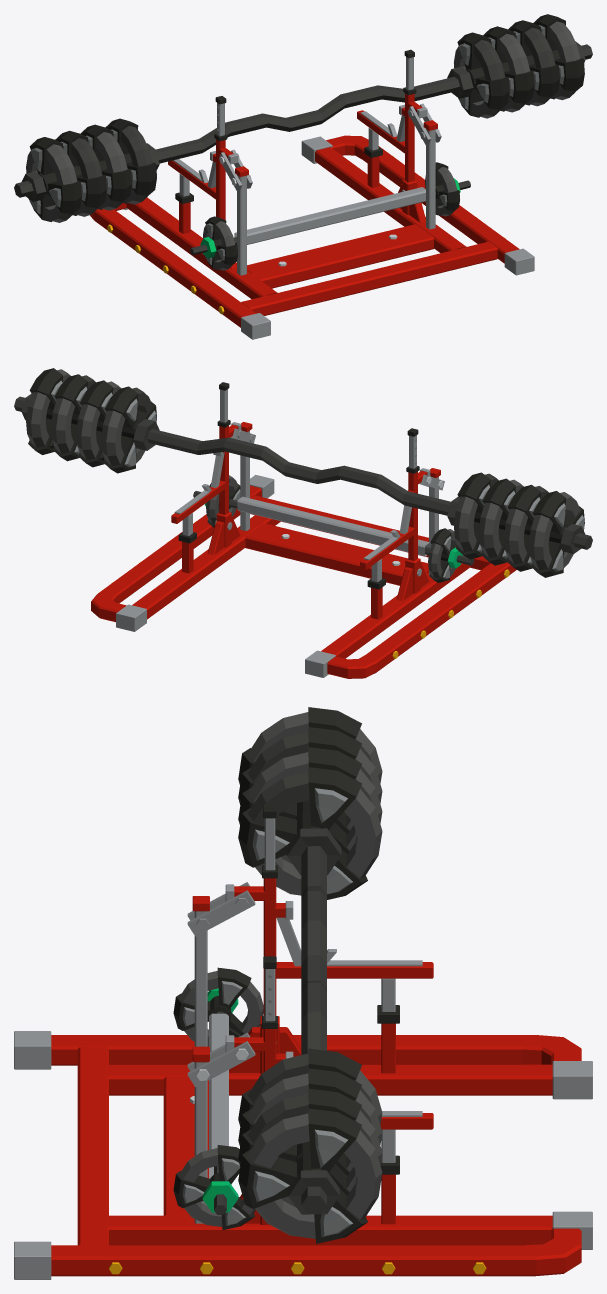
The model's file is hand.fbx.
3 renders of one model, top to bottom at view 1: azimuth 30°, elevation 25°; view 2: azimuth 150°, elevation 25°; view 3: azimuth 270°, elevation 25°, orthographic. The views are drawn at different scales.
Parts seen in each view (by area): view 1: Cube.002, Dumbblle Stand-3_MaHa LPMW materials_0.004; view 2: Cube.002, Dumbblle Stand-3_MaHa LPMW materials_0.004; view 3: Cube.002, Dumbblle Stand-3_MaHa LPMW materials_0.004.
Part boxes in pixels (x1,y1,x2,y2): Cube.002: [90, 49, 534, 339]; Dumbblle Stand-3_MaHa LPMW materials_0.004: [14, 14, 592, 222]; Cube.002: [91, 382, 516, 678]; Dumbblle Stand-3_MaHa LPMW materials_0.004: [14, 368, 592, 577]; Cube.002: [14, 805, 592, 1279]; Dumbblle Stand-3_MaHa LPMW materials_0.004: [238, 707, 382, 1243].
Size of the model in its own units: 4.7 by 1.36 by 2.52.
